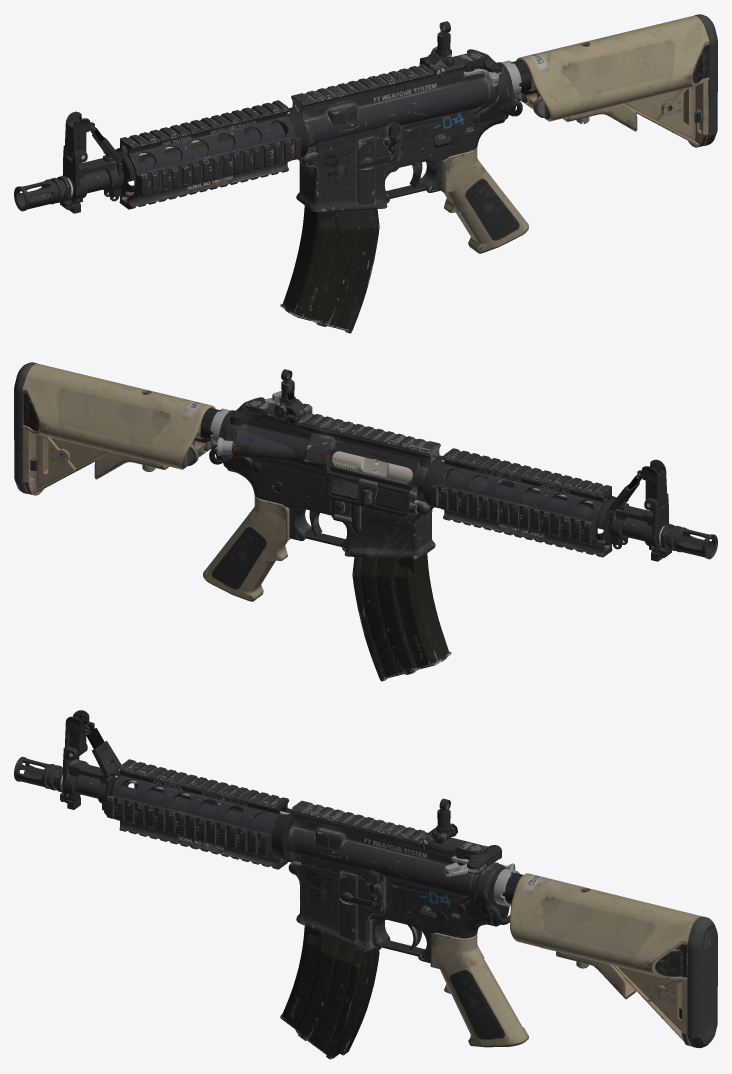
The picture shows the model from 3 angles, top to bottom: view 1: azimuth 30°, elevation 25°; view 2: azimuth 150°, elevation 25°; view 3: azimuth 330°, elevation 25°; orthographic projection.
Visible parts, largest first — view 1: Body 1, Stock 1, Short Barrel 1, Magazine, Folding Sight, Body 2, Short Barrel 2, Sight; view 2: Body 1, Stock 1, Short Barrel 1, Magazine, Folding Sight, Body 3, Short Barrel 2, Barrel, Sight, Body 2; view 3: Body 1, Stock 1, Short Barrel 1, Magazine, Folding Sight, Body 2, Short Barrel 2, Sight.
Part boxes in pixels (x1,y1,x2,y2): Body 1: [291, 51, 528, 253]; Stock 1: [515, 14, 717, 147]; Short Barrel 1: [67, 100, 308, 209]; Magazine: [280, 205, 379, 333]; Folding Sight: [60, 111, 122, 213]; Body 2: [358, 49, 501, 188]; Short Barrel 2: [14, 176, 71, 211]; Sight: [419, 21, 454, 78]; Body 1: [203, 399, 440, 601]; Stock 1: [14, 362, 216, 495]; Short Barrel 1: [423, 448, 664, 557]; Magazine: [352, 553, 451, 681]; Folding Sight: [609, 459, 671, 561]; Body 3: [323, 471, 416, 515]; Short Barrel 2: [660, 523, 717, 559]; Barrel: [332, 451, 412, 483]; Sight: [274, 369, 312, 425]; Body 2: [230, 391, 345, 536]; Body 1: [287, 800, 528, 1047]; Stock 1: [509, 873, 717, 1048]; Short Barrel 1: [60, 759, 293, 869]; Magazine: [280, 926, 379, 1059]; Folding Sight: [60, 710, 121, 814]; Body 2: [340, 845, 501, 949]; Short Barrel 2: [14, 756, 63, 792]; Sight: [419, 798, 457, 849].
Bounding box in the file's own units: 47.56 × 18.34 × 5.66.
7 materials, 7 textured.
